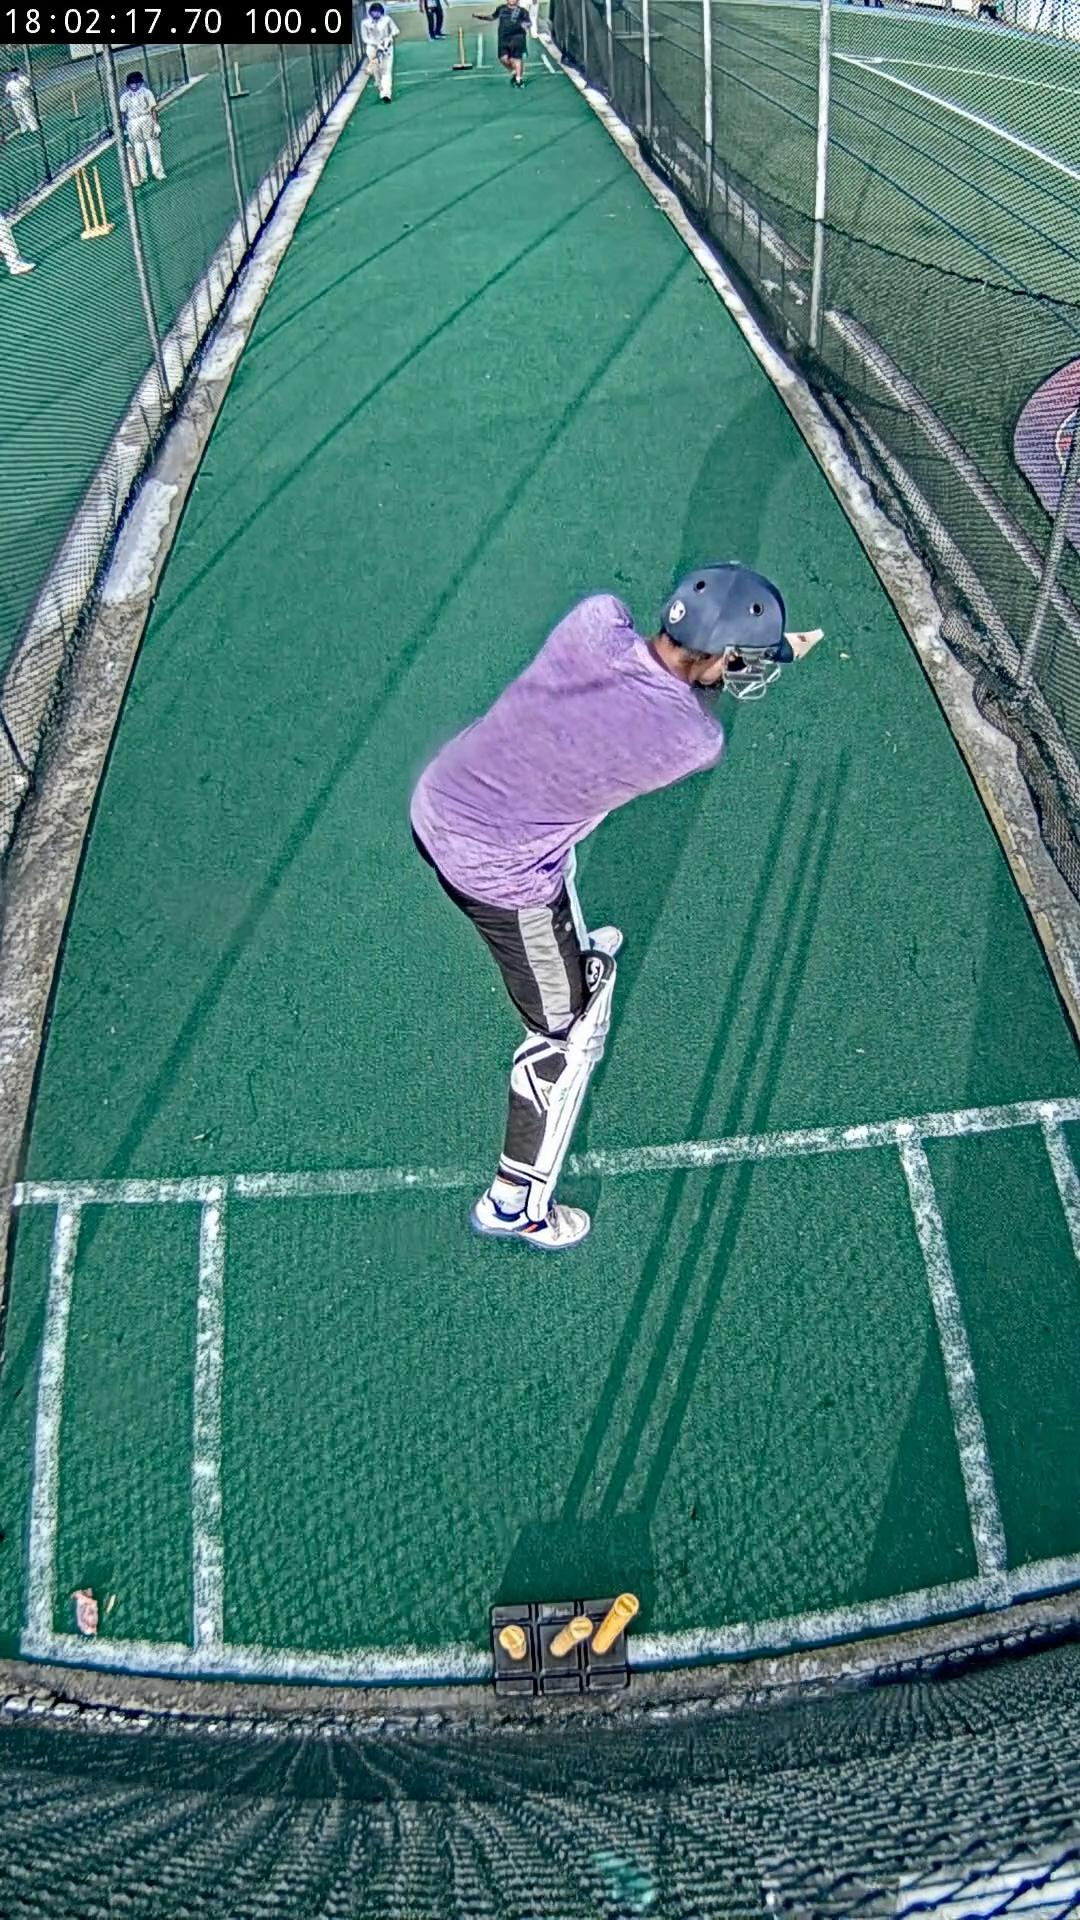bat: (783, 626, 825, 659)
helmet: (663, 563, 791, 702)
pads: (525, 956, 615, 1218)
stumps: (492, 1594, 641, 1693)
